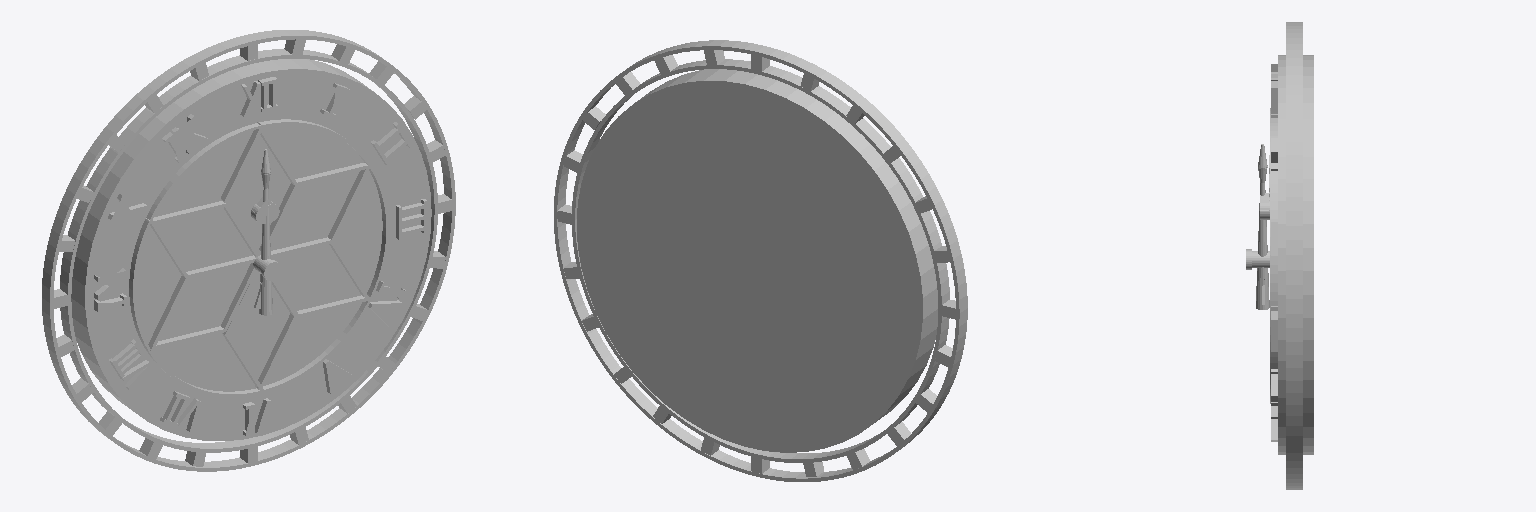
The model's file is Animation.obj.
3 views of the same model, side by side, from view 1: azimuth 30°, elevation 25°; view 2: azimuth 150°, elevation 25°; view 3: azimuth 270°, elevation 25° (orthographic).
Parts seen in each view (by area): view 1: ???_6, ??.1, ??, ??.2, ???_2, ???_1, ???.4_2, ???.2_3, ???.1_3, ???_3, ???.5, ???.5_1 (+11 smaller); view 2: ???_6, ??.1, ??; view 3: ??.1, ???_6, ??.2, ???_1.
Part boxes in pixels (bbox=[...]): ???_6: bbox=[71, 59, 431, 440]; ??.1: bbox=[42, 30, 455, 471]; ??: bbox=[60, 49, 437, 452]; ??.2: bbox=[129, 119, 388, 396]; ???_2: bbox=[152, 263, 255, 349]; ???_1: bbox=[259, 188, 272, 315]; ???.4_2: bbox=[271, 167, 369, 256]; ???.2_3: bbox=[221, 122, 262, 255]; ???.1_3: bbox=[146, 218, 255, 278]; ???_3: bbox=[153, 201, 258, 256]; ???.5: bbox=[255, 281, 297, 390]; ???.5_1: bbox=[259, 129, 297, 250]; ???_6: bbox=[577, 69, 937, 452]; ??.1: bbox=[554, 40, 967, 481]; ??: bbox=[572, 59, 949, 462]; ??.1: bbox=[1286, 22, 1302, 489]; ???_6: bbox=[1278, 55, 1313, 454]; ??.2: bbox=[1270, 108, 1277, 403]; ???_1: bbox=[1256, 183, 1269, 309].
Bounding box in the file's own units: 57 × 57 × 8.22.